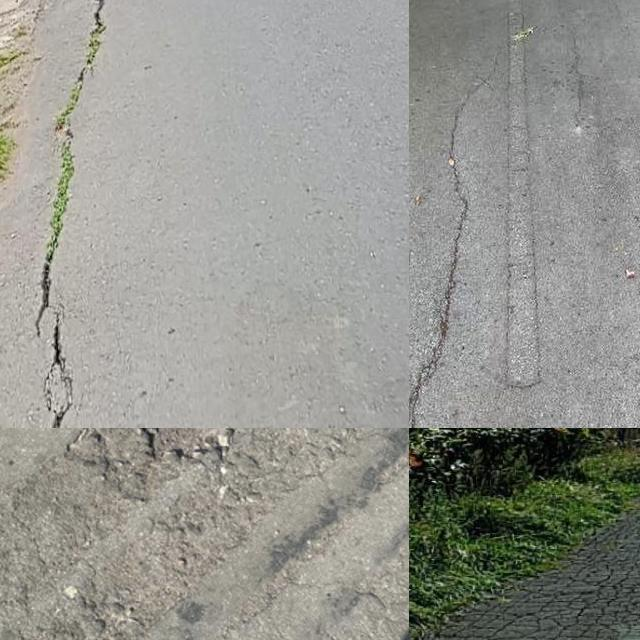Lubang: (136, 428, 257, 471)
Memanjang: (409, 48, 512, 428), (21, 0, 107, 428)
Retak Buaya: (417, 500, 640, 640)
